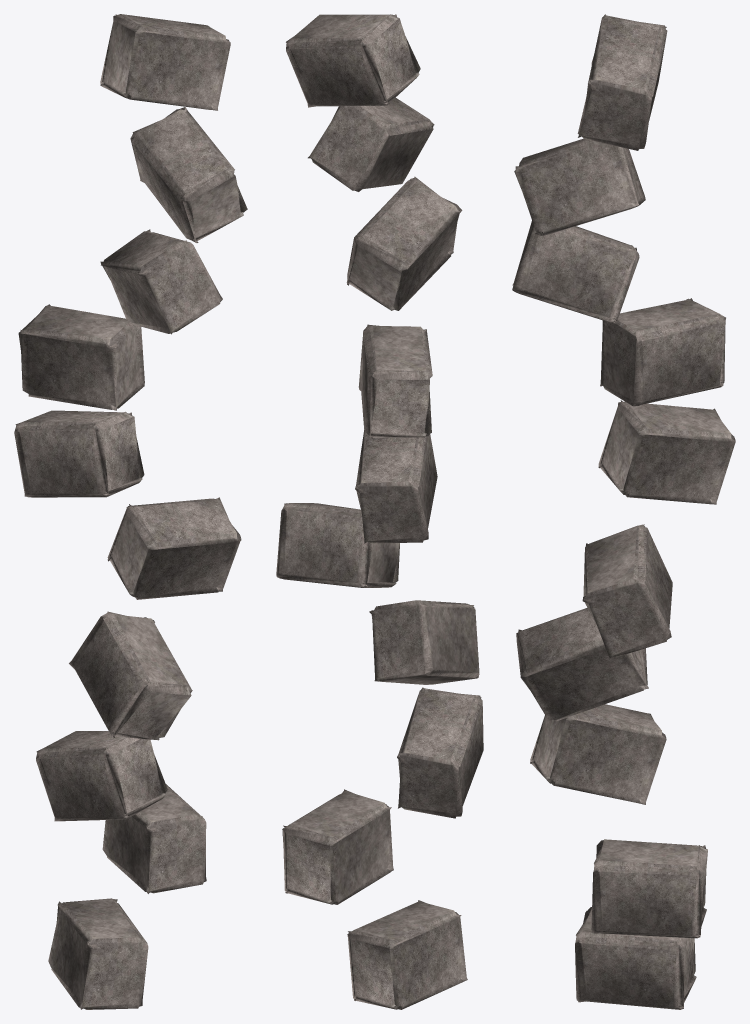
File: PAV-BLQ-005_anim.glb
3 views of the same model, side by side, from view 1: azimuth 30°, elevation 25°; view 2: azimuth 150°, elevation 25°; view 3: azimuth 270°, elevation 25° (orthographic). The views are drawn at different scales.
Parts seen in each view (by area): view 1: PAV-BLQ-005_anim6, PAV-BLQ-005_anim4, PAV-BLQ-005_anim3, PAV-BLQ-005_anim5, PAV-BLQ-005_anim9, PAV-BLQ-005_anim2, PAV-BLQ-005_anim8, PAV-BLQ-005_anim0, PAV-BLQ-005_anim7, PAV-BLQ-005_anim1; view 2: PAV-BLQ-005_anim9, PAV-BLQ-005_anim0, PAV-BLQ-005_anim1, PAV-BLQ-005_anim7, PAV-BLQ-005_anim2, PAV-BLQ-005_anim3, PAV-BLQ-005_anim4, PAV-BLQ-005_anim8, PAV-BLQ-005_anim5, PAV-BLQ-005_anim6; view 3: PAV-BLQ-005_anim5, PAV-BLQ-005_anim6, PAV-BLQ-005_anim1, PAV-BLQ-005_anim2, PAV-BLQ-005_anim3, PAV-BLQ-005_anim4, PAV-BLQ-005_anim8, PAV-BLQ-005_anim9, PAV-BLQ-005_anim7, PAV-BLQ-005_anim0.
Part boxes in pixels (x1,y1,x2,y2): PAV-BLQ-005_anim6: (18, 304, 144, 410); PAV-BLQ-005_anim4: (107, 497, 241, 599); PAV-BLQ-005_anim3: (69, 611, 192, 740); PAV-BLQ-005_anim5: (14, 410, 144, 497); PAV-BLQ-005_anim9: (100, 14, 230, 110); PAV-BLQ-005_anim2: (36, 731, 167, 821); PAV-BLQ-005_anim8: (130, 107, 247, 242); PAV-BLQ-005_anim0: (48, 898, 148, 1009); PAV-BLQ-005_anim7: (100, 229, 222, 334); PAV-BLQ-005_anim1: (102, 784, 206, 893); PAV-BLQ-005_anim9: (286, 14, 420, 107); PAV-BLQ-005_anim0: (347, 900, 467, 1009); PAV-BLQ-005_anim1: (282, 789, 393, 904); PAV-BLQ-005_anim7: (346, 176, 462, 310); PAV-BLQ-005_anim2: (397, 687, 483, 818); PAV-BLQ-005_anim3: (369, 600, 479, 684); PAV-BLQ-005_anim4: (276, 503, 399, 587); PAV-BLQ-005_anim8: (308, 97, 434, 191); PAV-BLQ-005_anim5: (355, 430, 437, 543); PAV-BLQ-005_anim6: (358, 324, 432, 438); PAV-BLQ-005_anim5: (598, 400, 735, 504); PAV-BLQ-005_anim6: (600, 298, 725, 406); PAV-BLQ-005_anim1: (591, 839, 707, 938); PAV-BLQ-005_anim2: (530, 704, 666, 804); PAV-BLQ-005_anim3: (516, 607, 648, 721); PAV-BLQ-005_anim4: (582, 524, 672, 659); PAV-BLQ-005_anim8: (514, 138, 645, 235); PAV-BLQ-005_anim9: (577, 14, 667, 150); PAV-BLQ-005_anim7: (512, 221, 639, 323); PAV-BLQ-005_anim0: (575, 907, 696, 1009).
Bounding box in the file's own units: 0.3594 × 1.85 × 0.3774.
Materials: 1 (1 with a texture image).
